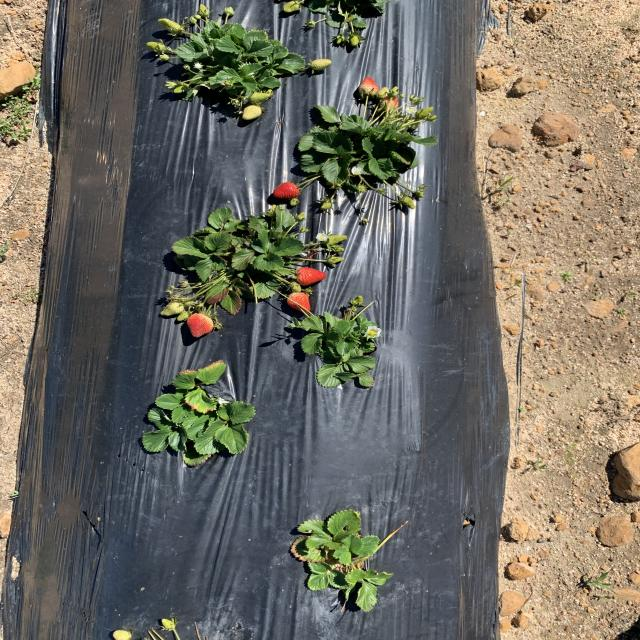unripe: (188, 313, 214, 337), (270, 182, 304, 199), (295, 268, 327, 286), (288, 292, 312, 312), (357, 76, 378, 95)
